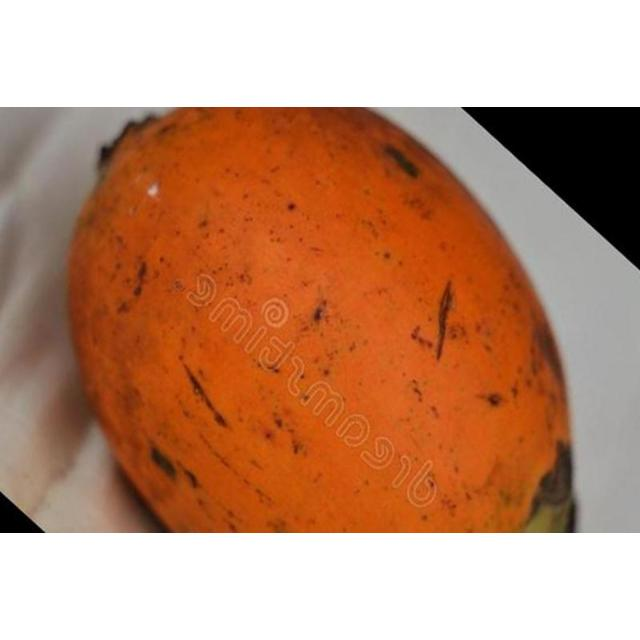good: (65, 107, 576, 533)
